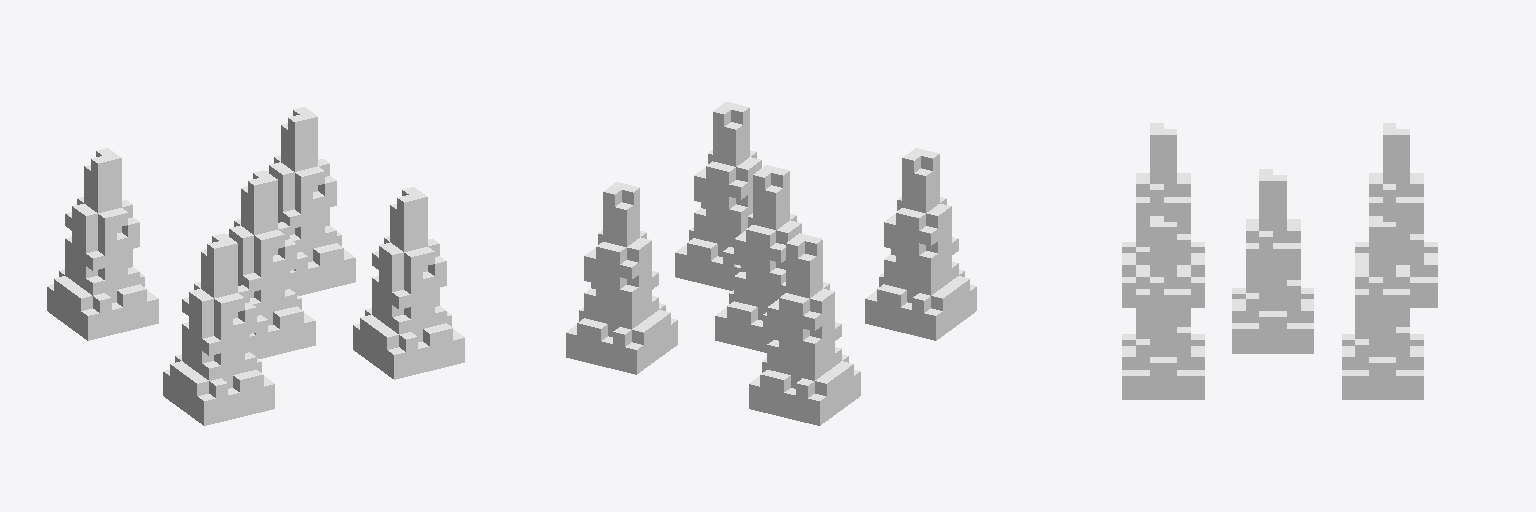
Rendered from spikesinside.obj.
3 renders of one model, left to right at view 1: azimuth 30°, elevation 25°; view 2: azimuth 150°, elevation 25°; view 3: azimuth 270°, elevation 25°, orthographic.
Visible parts, largest first — view 1: object 1; view 2: object 1; view 3: object 1.
Boxes of the visible parts, x1=… form: object 1: x1=47, y1=107, x2=464, y2=425; object 1: x1=566, y1=102, x2=976, y2=425; object 1: x1=1122, y1=123, x2=1437, y2=399.
Bounding box in the file's own units: 2.2 × 1.3 × 2.3.